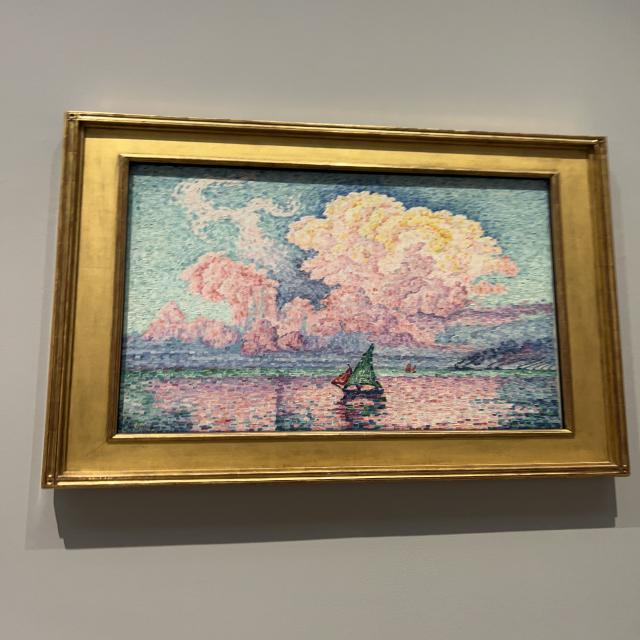sunrise: (119, 164, 565, 434)
